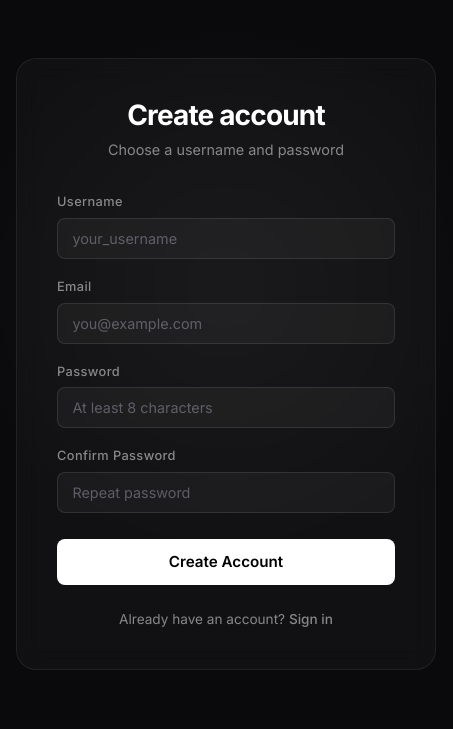
Test: SignUp form — validation › rejects username with special characters
Type "alice!" into the field labelled "Username" at {"x": 226, "y": 239}, box top-left (57, 218), bottom-right (395, 259)
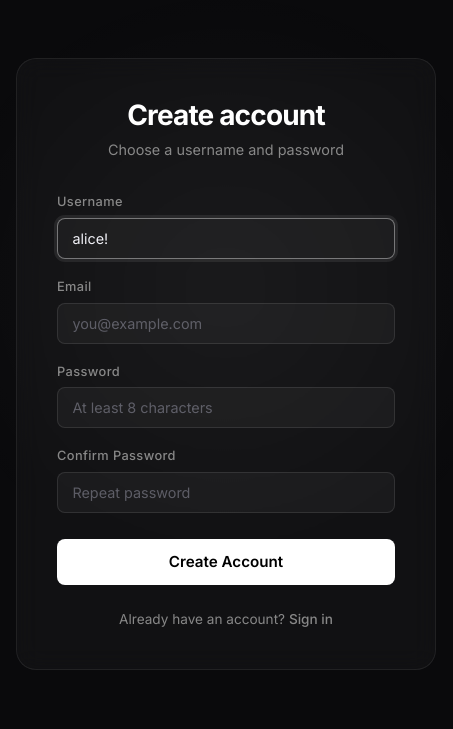
Type "password123" into the password field labelled "Password" at {"x": 226, "y": 408}, box top-left (57, 387), bottom-right (395, 428)
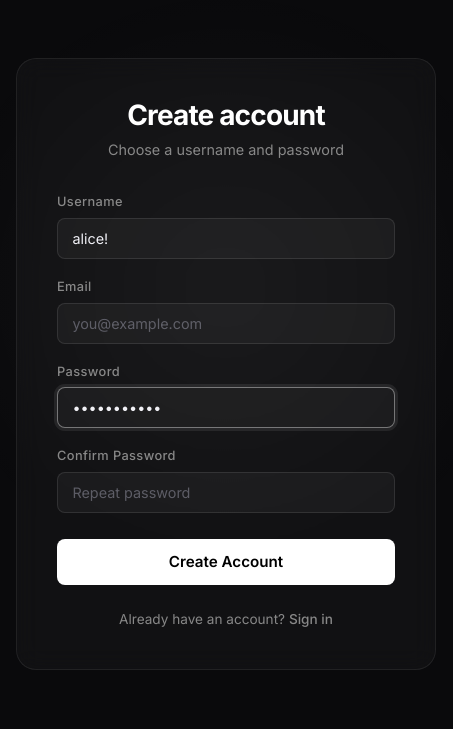
Type "password123" into the password field labelled "Confirm Password" at {"x": 226, "y": 492}, box top-left (57, 472), bottom-right (395, 513)
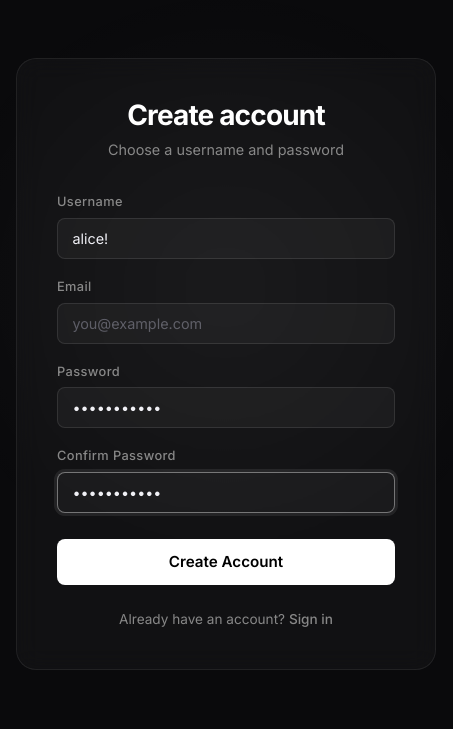
Click the button "Create Account" at {"x": 226, "y": 562}, box top-left (57, 539), bottom-right (395, 585)
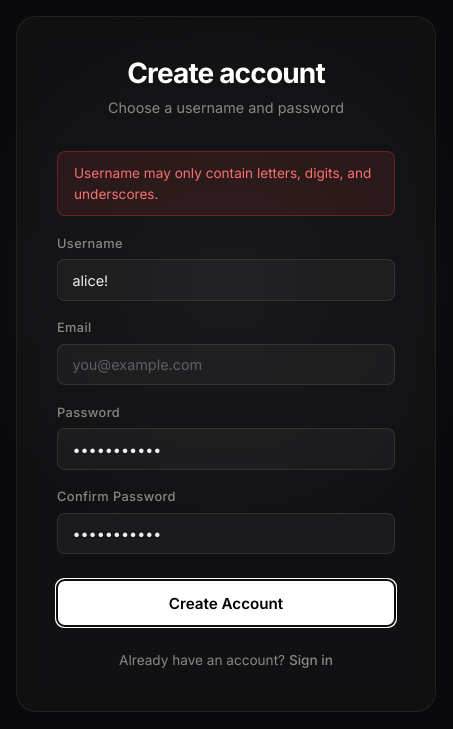
Check: the text "Username may only contain letters, digits, and underscores." is shown, box top-left (57, 151), bottom-right (395, 216)
